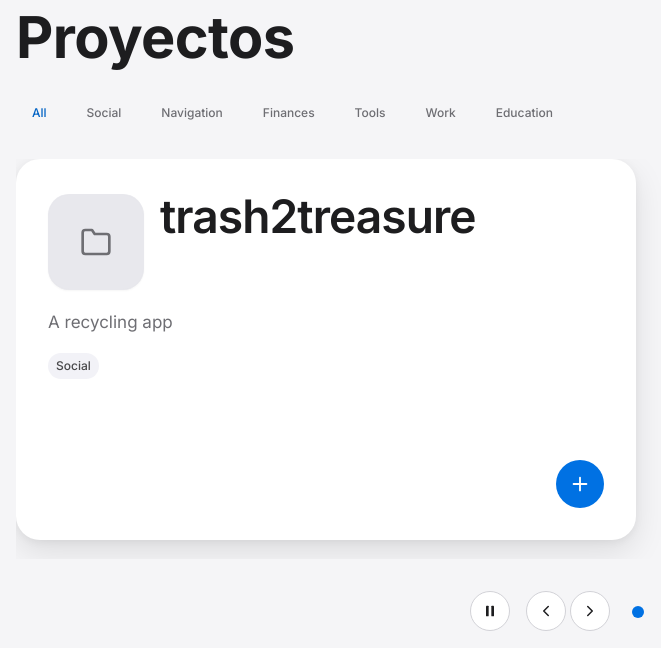
Scenario: Projects › explains an empty category instead of showing a blank area
What coordinates should you click on to do the following:
click the button "Education"
I would click on:
 (524, 114)
Its box is [480, 92, 569, 136].
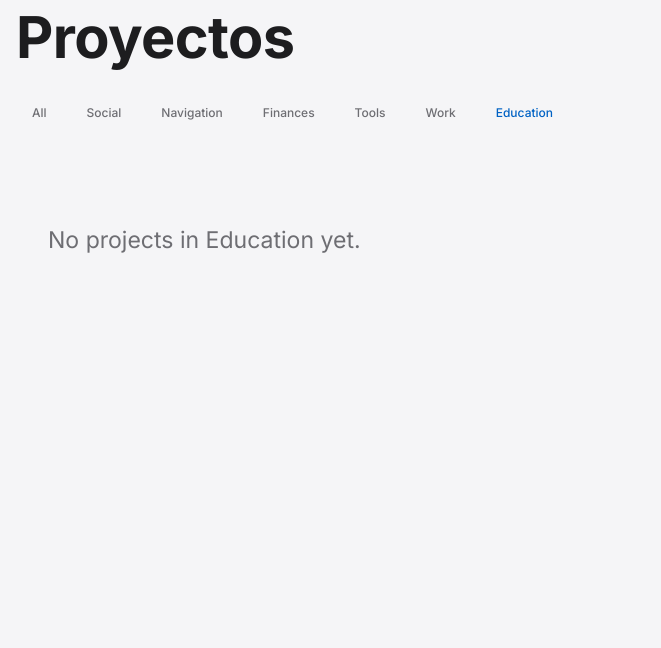
Now the text "No projects in Education yet." is shown, box [48, 224, 361, 258]
